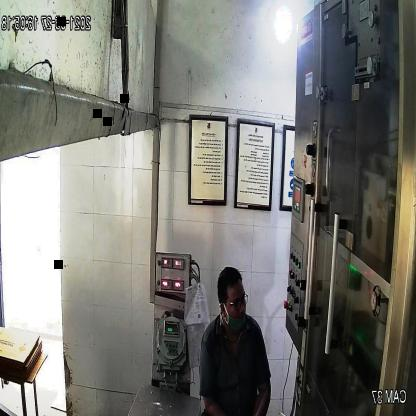goggles: (222, 290, 250, 316)
